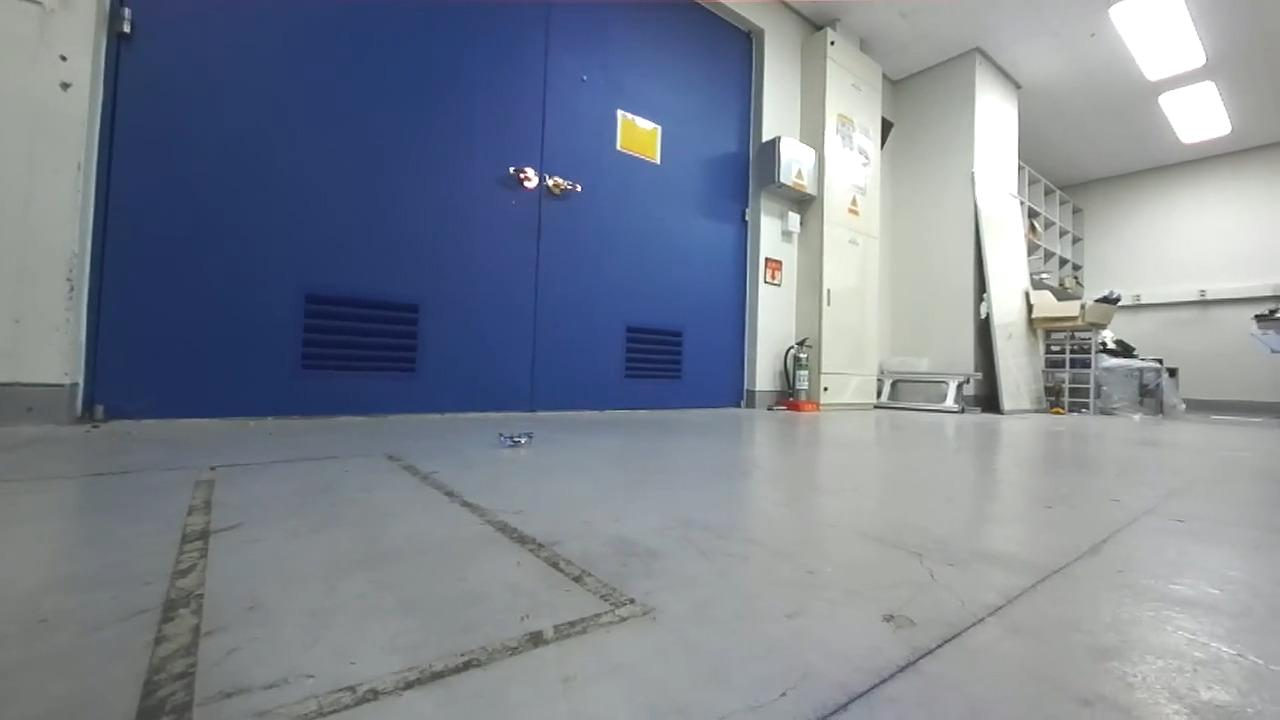crazyflie: (489, 423, 539, 453)
